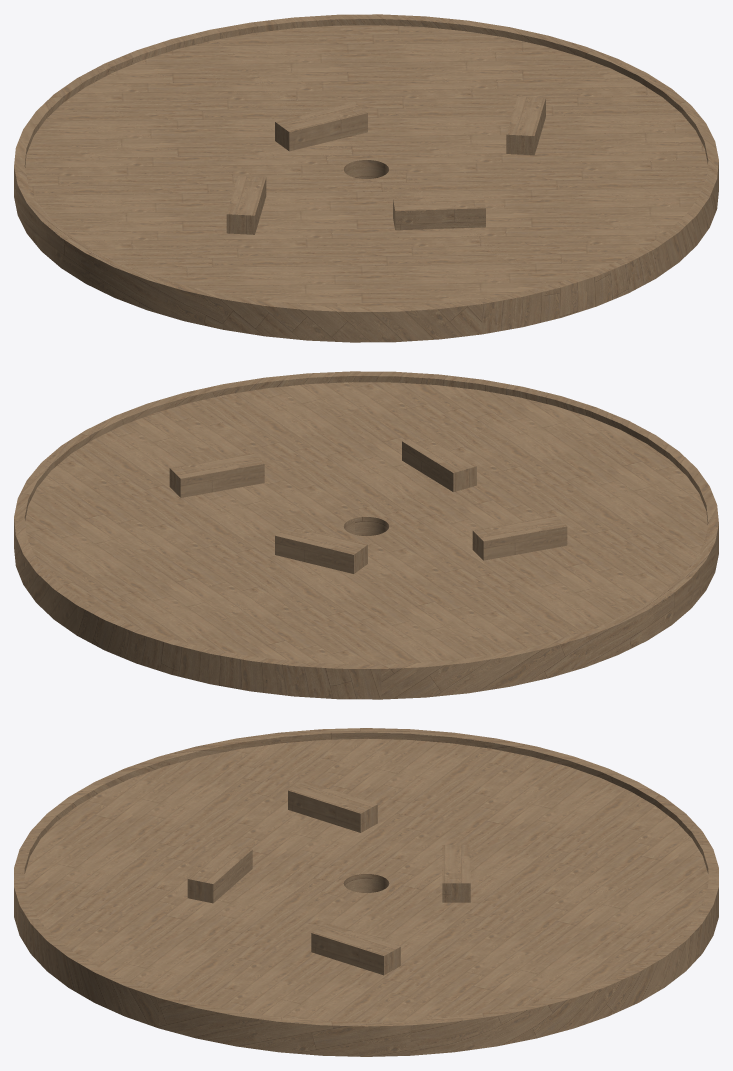
The model's file is pathcyl.gltf.
3 renders of one model, top to bottom at view 1: azimuth 30°, elevation 25°; view 2: azimuth 150°, elevation 25°; view 3: azimuth 270°, elevation 25°, orthographic.
Visible parts, largest first — view 1: pathcyl; view 2: pathcyl; view 3: pathcyl.
Part boxes in pixels (<box>): pathcyl: <box>14,14,718,342</box>; pathcyl: <box>14,371,718,699</box>; pathcyl: <box>14,728,718,1056</box>.
Size of the model in its own units: 12.4 by 0.8427 by 12.38.
Materials: 1 (1 with a texture image).
